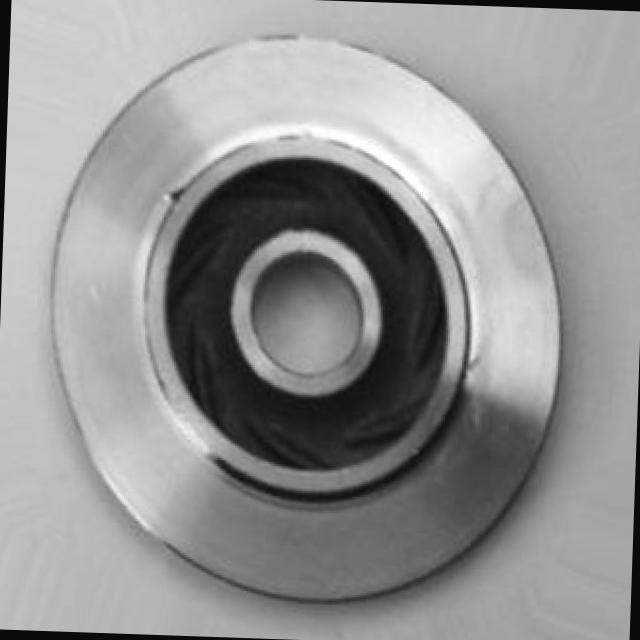Defect: (158, 180, 189, 207)
